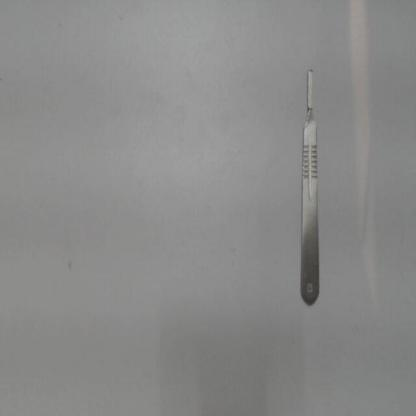No.4 BP Handle: (296, 67, 326, 313)
